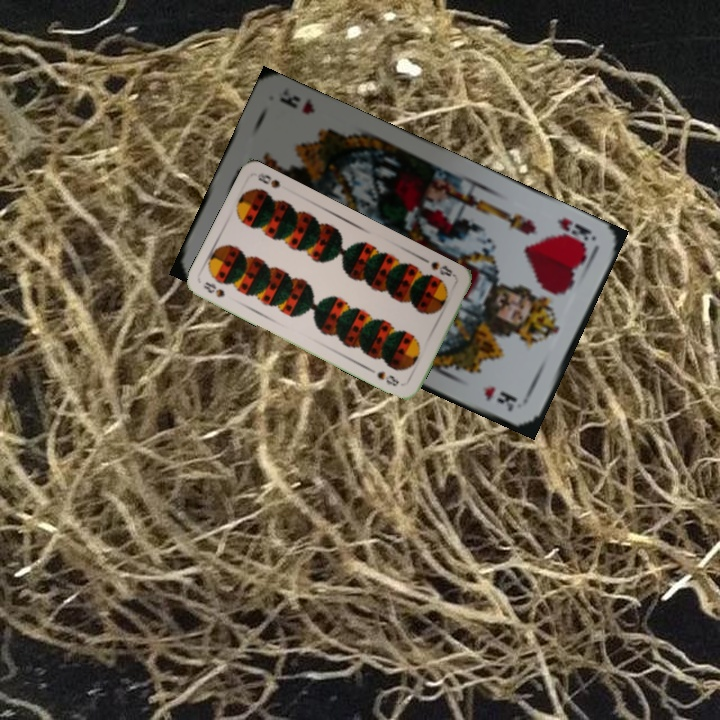HK: (553, 213, 597, 251)
S8: (427, 258, 460, 282), (199, 278, 227, 300)
